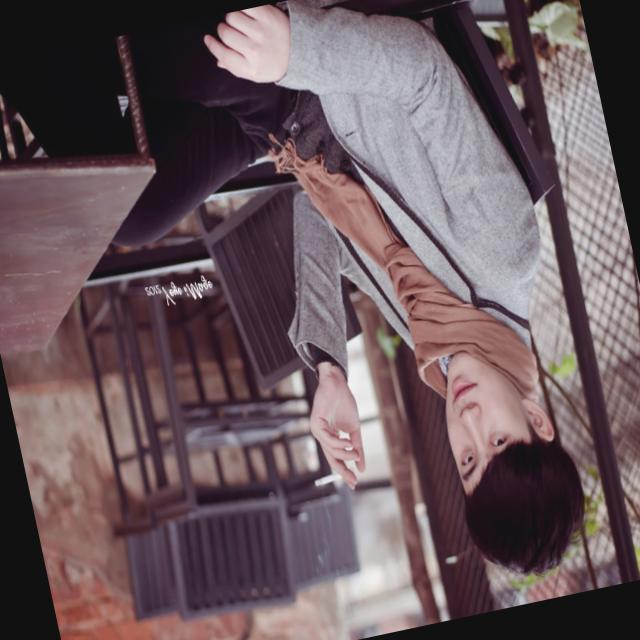cigarette: (296, 442, 379, 512)
